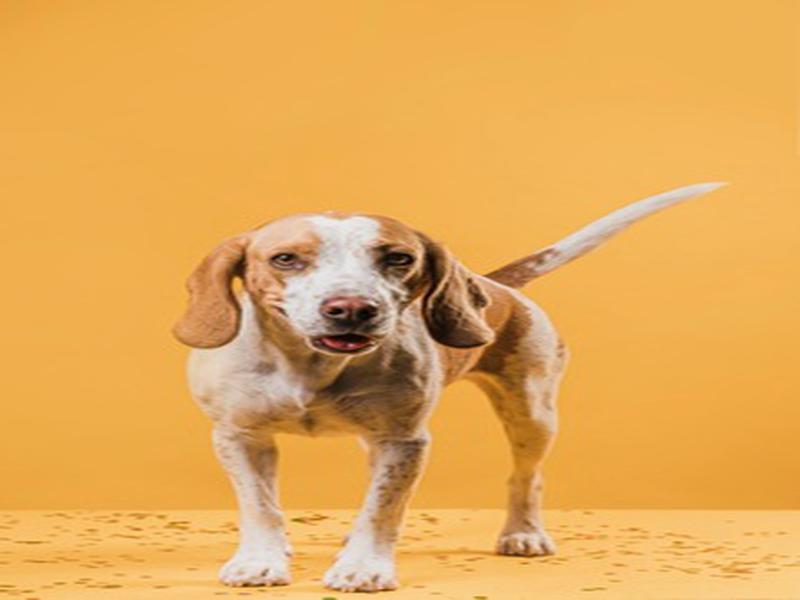dog_stand: (172, 177, 730, 590)
